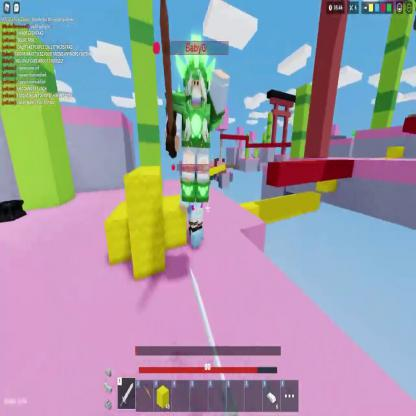Roblox-Avatar: (161, 1, 230, 204)
